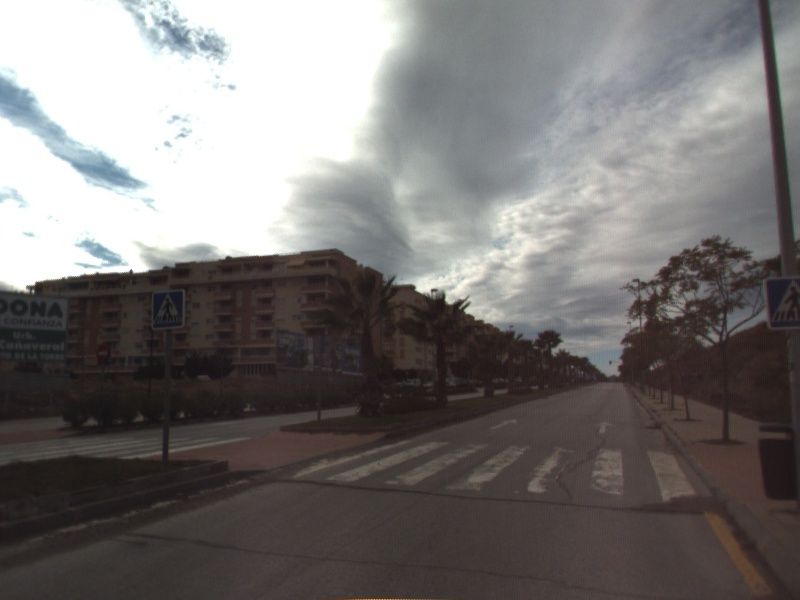STRAIGHT: (487, 416, 519, 432), (593, 418, 617, 435)
